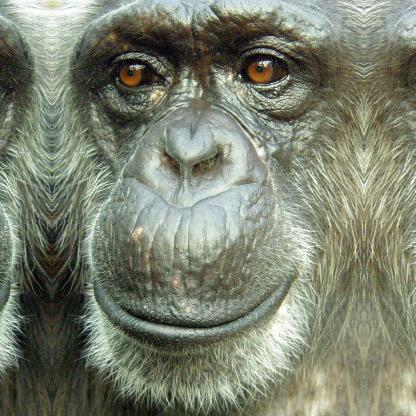Monkey: (51, 0, 363, 415)
